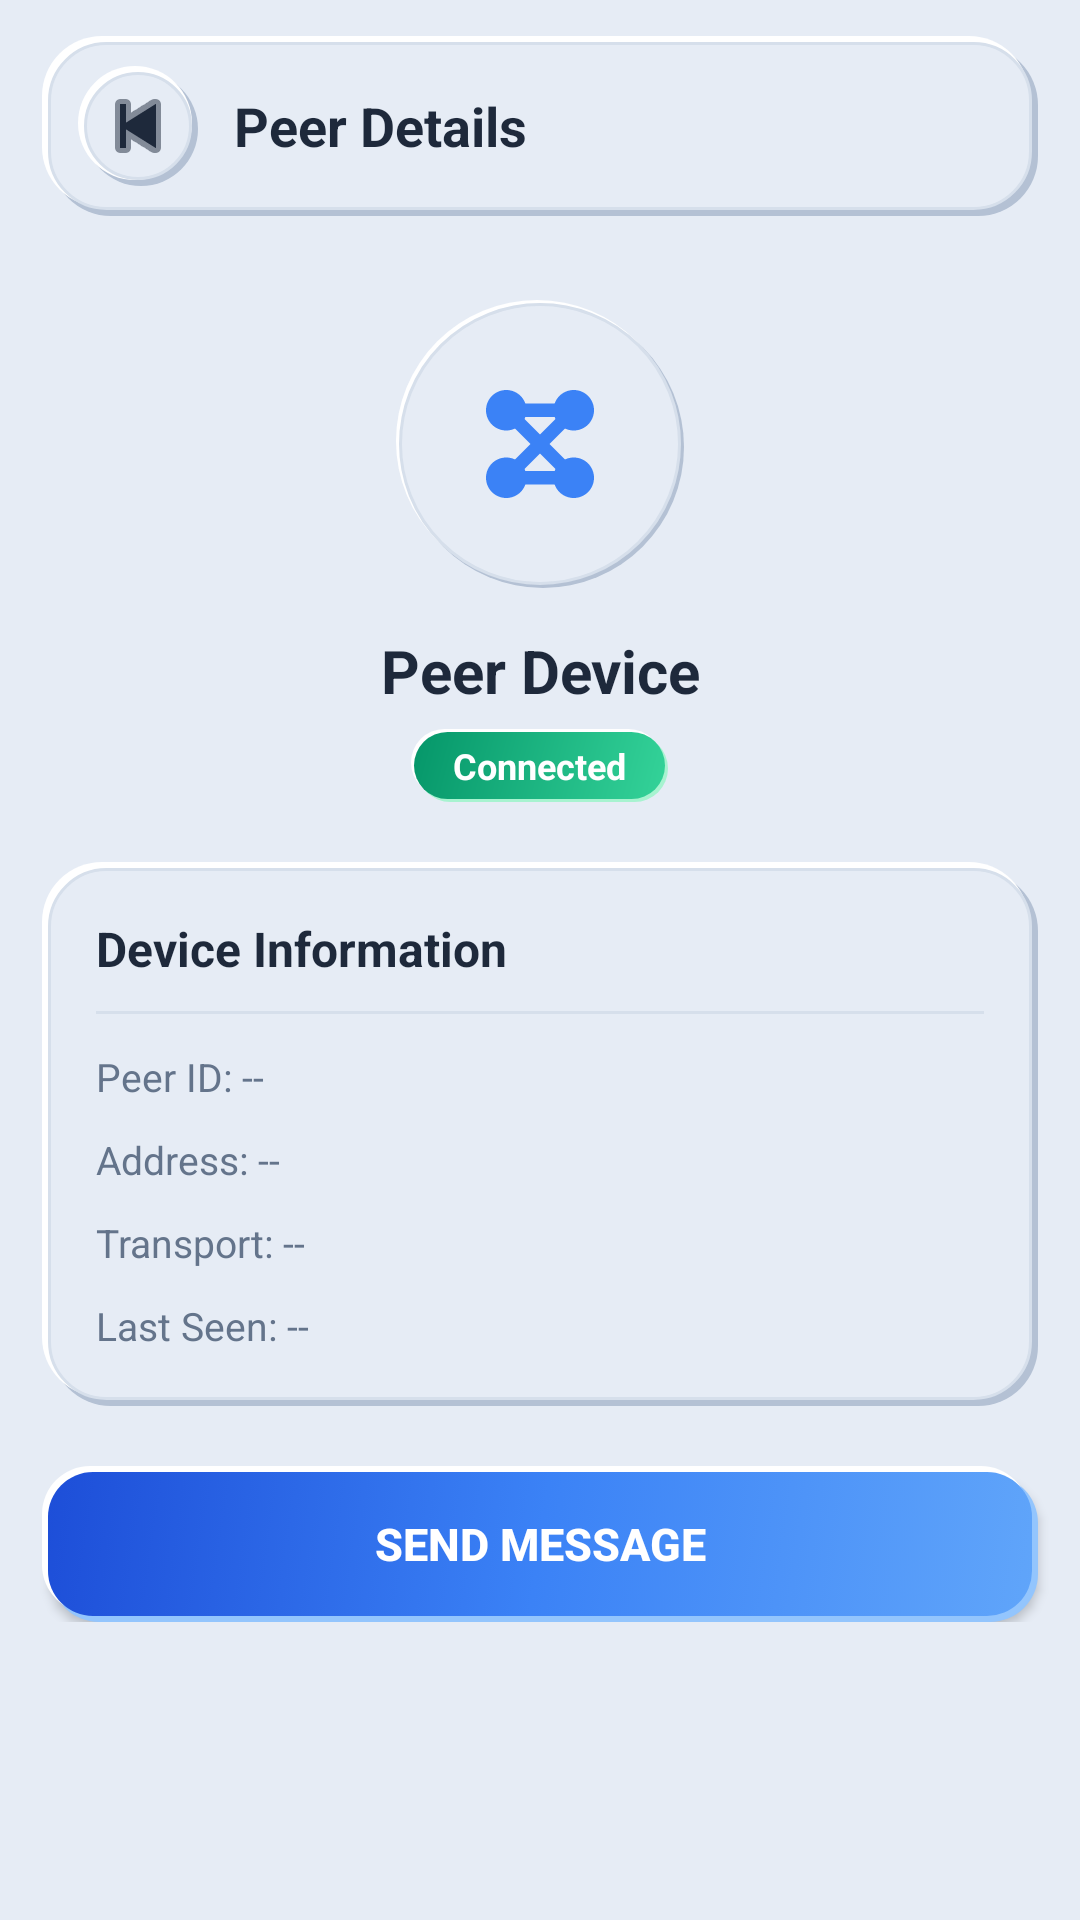

Point at icon controls on the screen. Image size 1080x1920, points as (x,y).
Back: (138,126)
Peer Avatar: (540,444)
